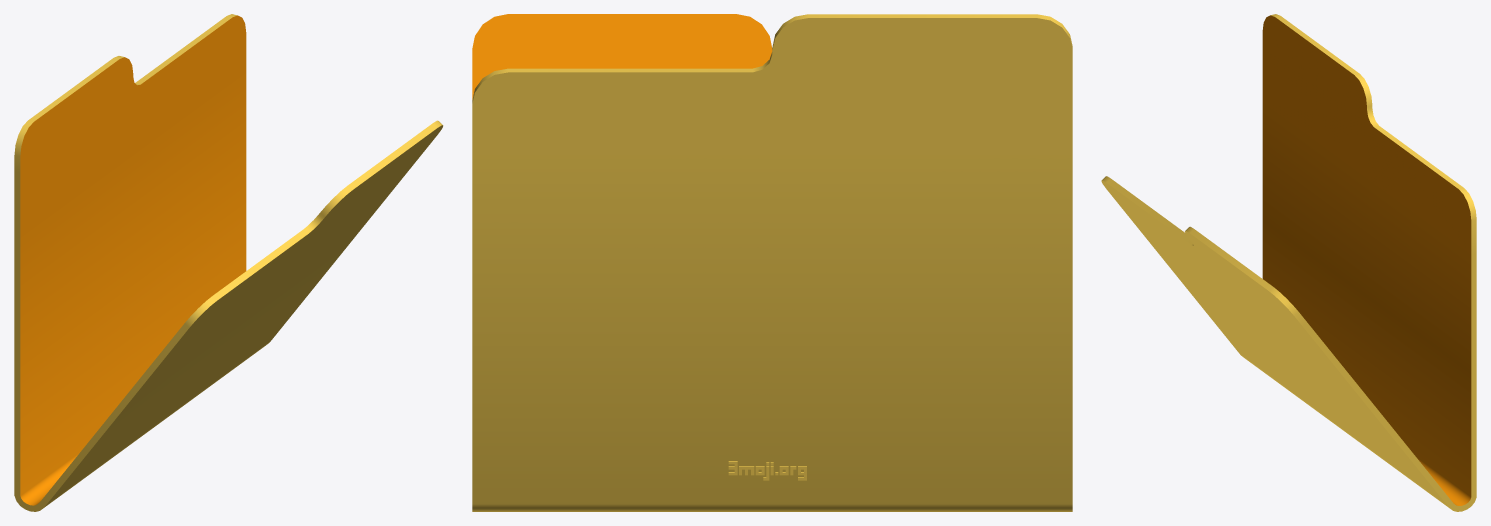
File: open_file_folder.fbx
3 views of the same model, side by side, from view 1: azimuth 30°, elevation 25°; view 2: azimuth 150°, elevation 25°; view 3: azimuth 270°, elevation 25° (orthographic). The views are drawn at different scales.
Parts seen in each view (by area): view 1: Cube.977; view 2: Cube.977; view 3: Cube.977.
Boxes of the visible parts, left/top/right/bottom form: Cube.977: left=14, top=14, right=443, bottom=511; Cube.977: left=472, top=14, right=1072, bottom=511; Cube.977: left=1101, top=14, right=1476, bottom=511.
Size of the model in its own units: 226 by 186 by 182.
1 material, 1 textured.
